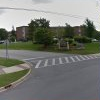crosswalk: (35, 54, 100, 67)
